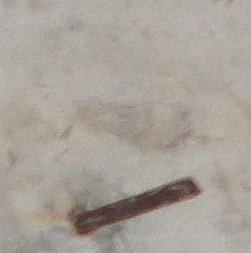Exposed reinforcement: (74, 176, 203, 237)
